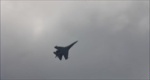maybay_muctieu: (51, 40, 79, 62)
